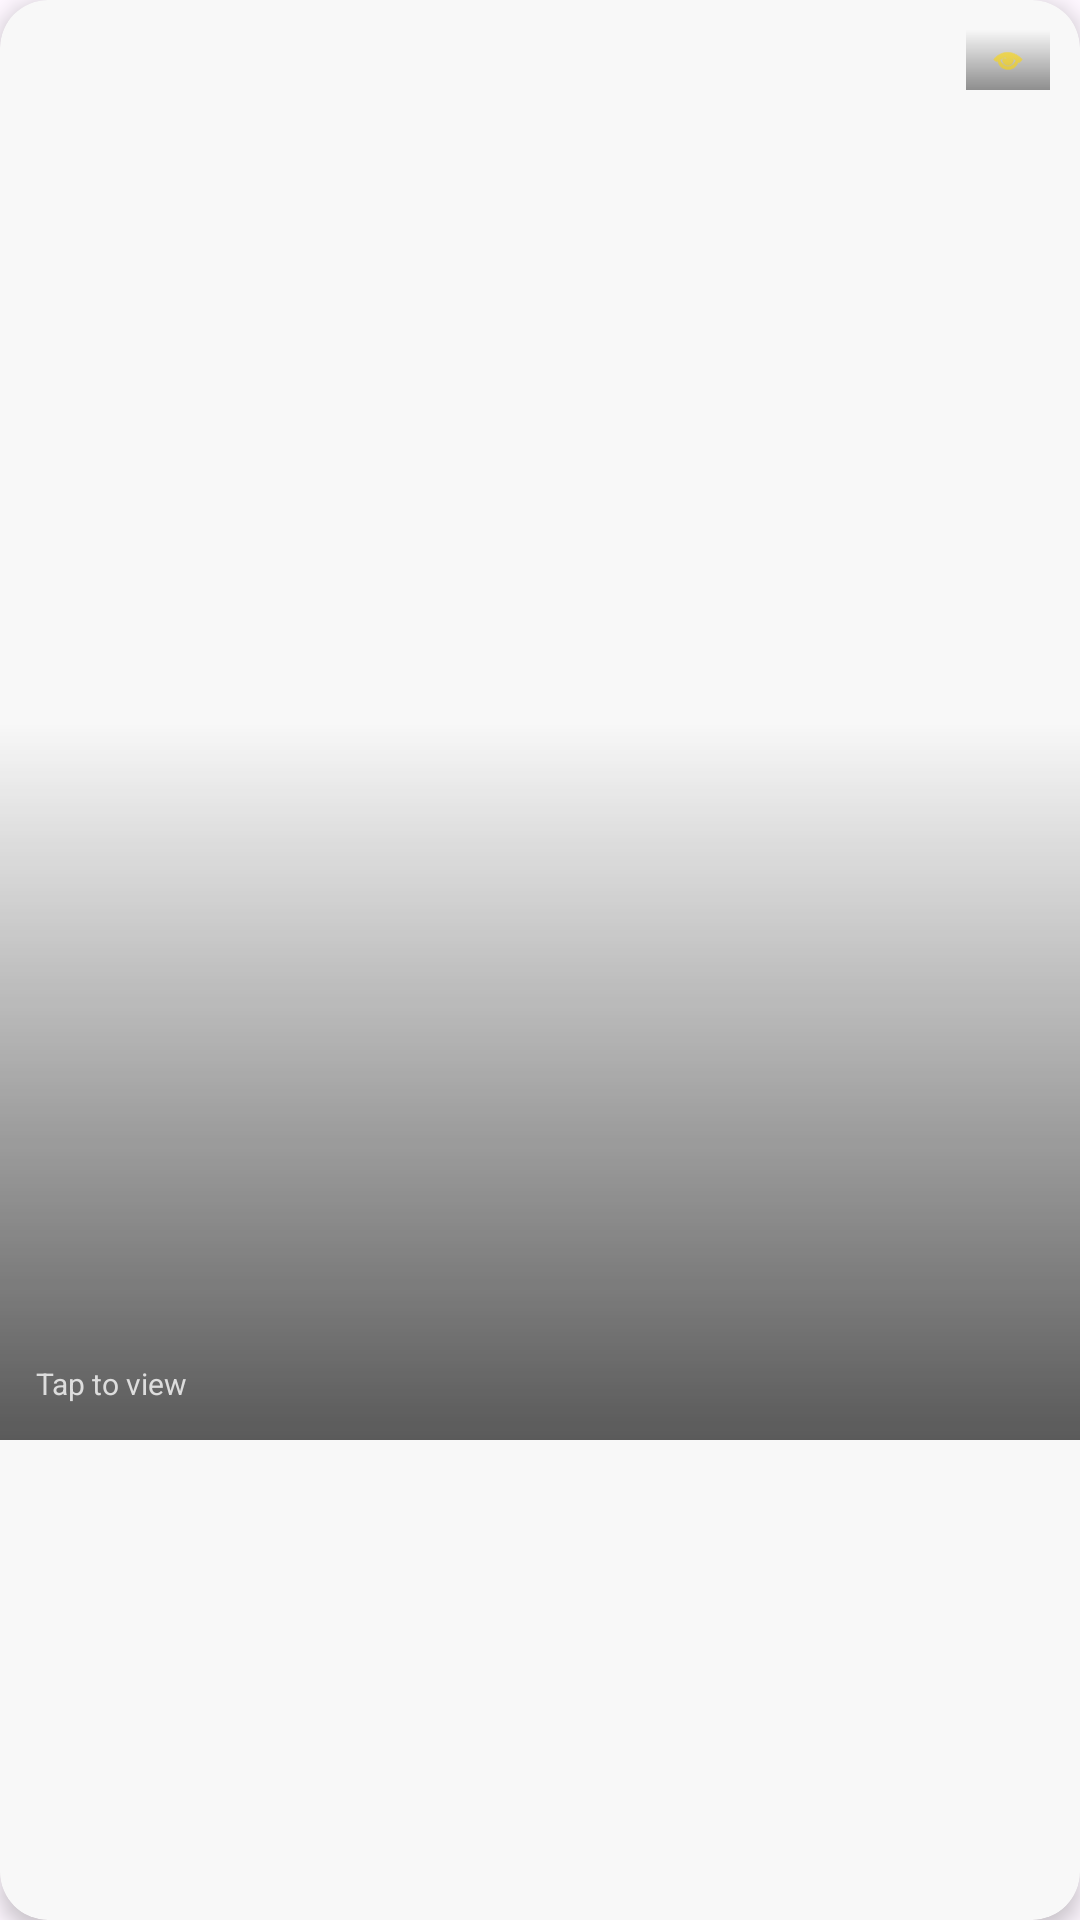

Point at icon controls on the screen. Image size 1080 x 1920, points as point (x, y).
view: point (1008, 60)
